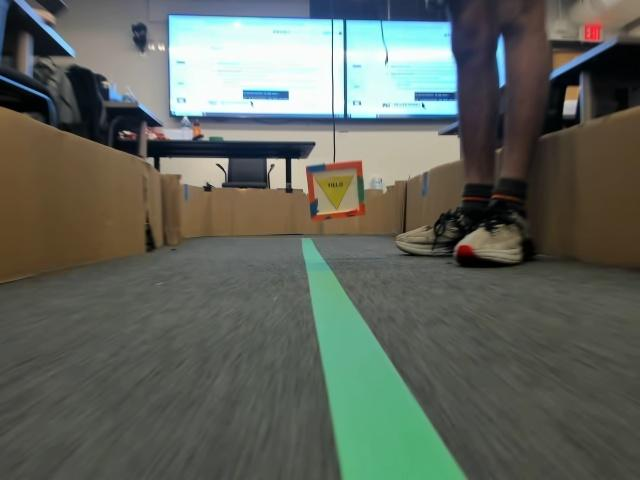Yield: (315, 175, 352, 210)
